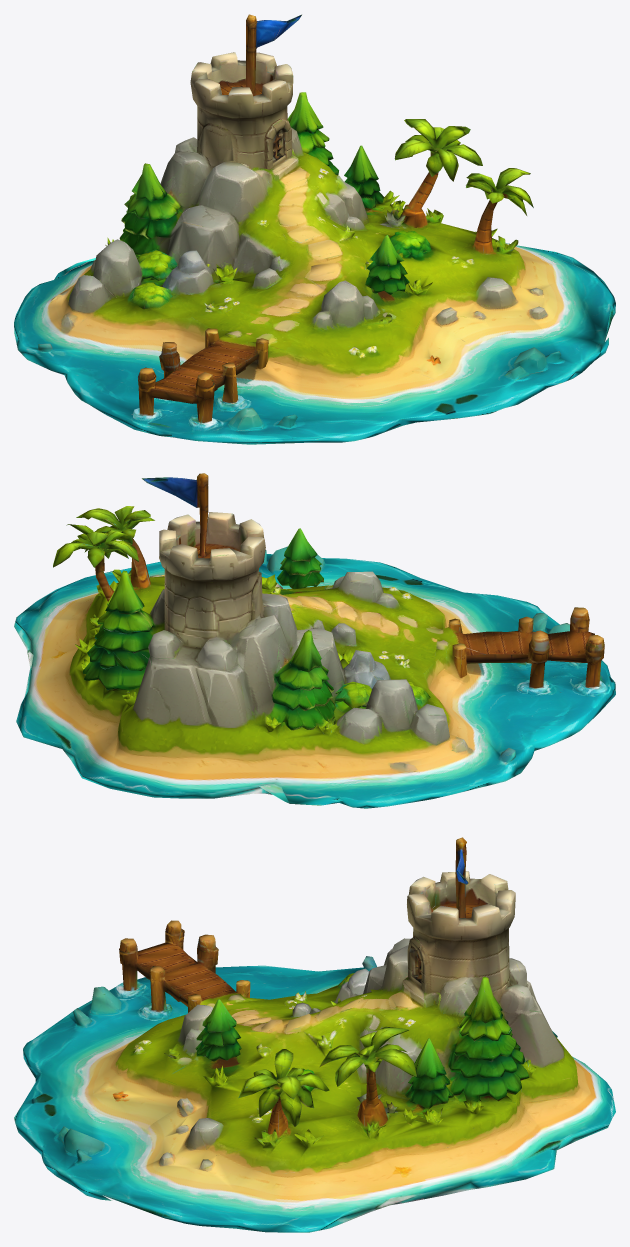
The model's file is Meshy_AI_Castle_Island_0606162712_texture.fbx.
The picture shows the model from 3 angles, top to bottom: view 1: azimuth 30°, elevation 25°; view 2: azimuth 150°, elevation 25°; view 3: azimuth 270°, elevation 25°; orthographic projection. The views are drawn at different scales.
Parts seen in each view (by area): view 1: Mesh_0; view 2: Mesh_0; view 3: Mesh_0.
Part boxes in pixels (x1,y1,x2,y2): Mesh_0: (14,14,615,444); Mesh_0: (14,473,615,808); Mesh_0: (14,837,615,1232).
Size of the model in its own units: 190 by 88.88 by 182.
1 material, 1 textured.
